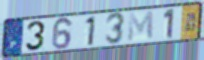1: (163, 7, 176, 40), (84, 15, 97, 47)
3: (24, 20, 48, 53), (104, 11, 126, 47)
6: (50, 16, 74, 51)
M: (126, 10, 155, 43)
